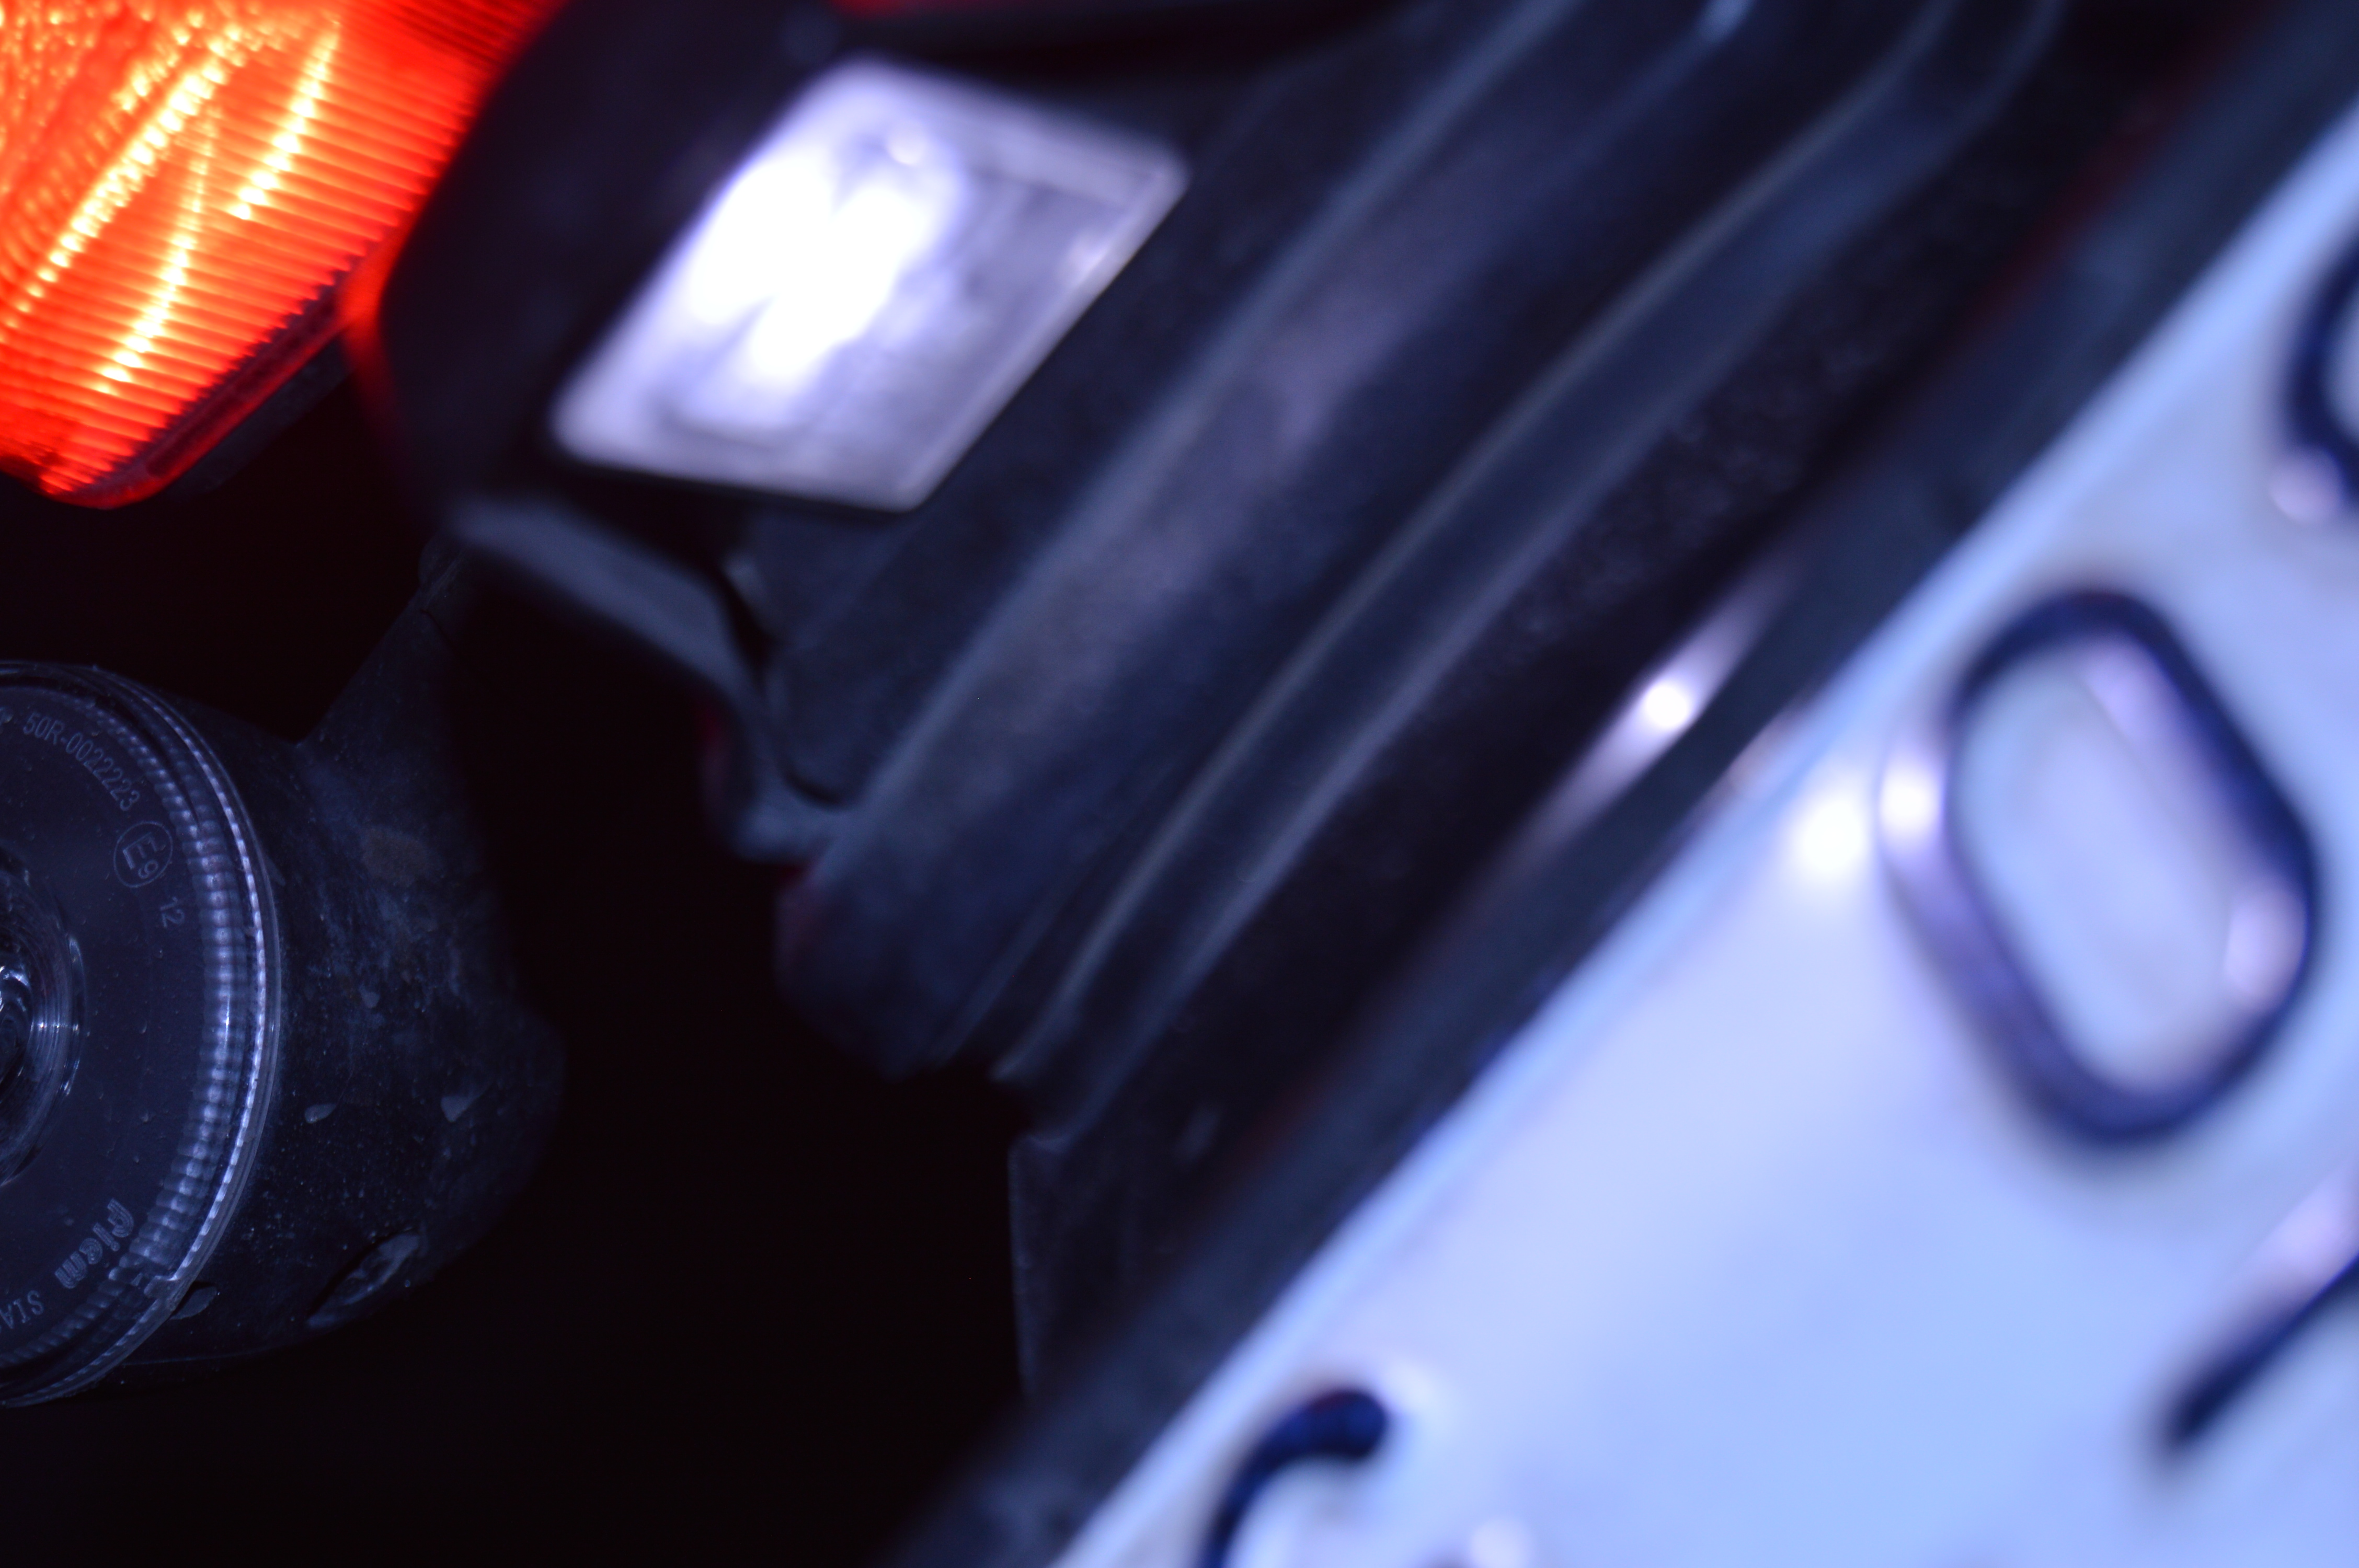Glare: (658, 131, 913, 402)
